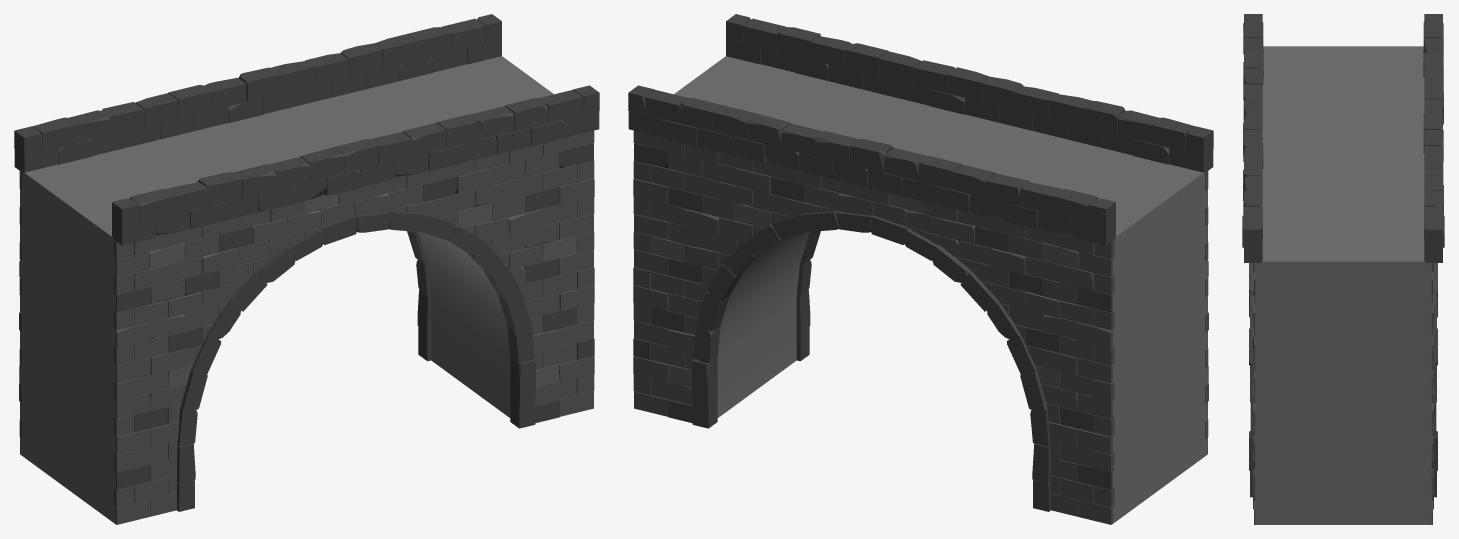
The model's file is Bridge_01.glb.
3 views of the same model, side by side, from view 1: azimuth 30°, elevation 25°; view 2: azimuth 150°, elevation 25°; view 3: azimuth 270°, elevation 25° (orthographic). The views are drawn at different scales.
Parts seen in each view (by area): view 1: Bridge_01_LOD0; view 2: Bridge_01_LOD0; view 3: Bridge_01_LOD0.
Part boxes in pixels (x1,y1,x2,y2): Bridge_01_LOD0: (14, 14, 599, 524); Bridge_01_LOD0: (628, 14, 1213, 524); Bridge_01_LOD0: (1242, 14, 1444, 524).
Size of what is drawn, in the model's own units: 9 by 5.79 by 3.57.
1 material, 1 textured.
